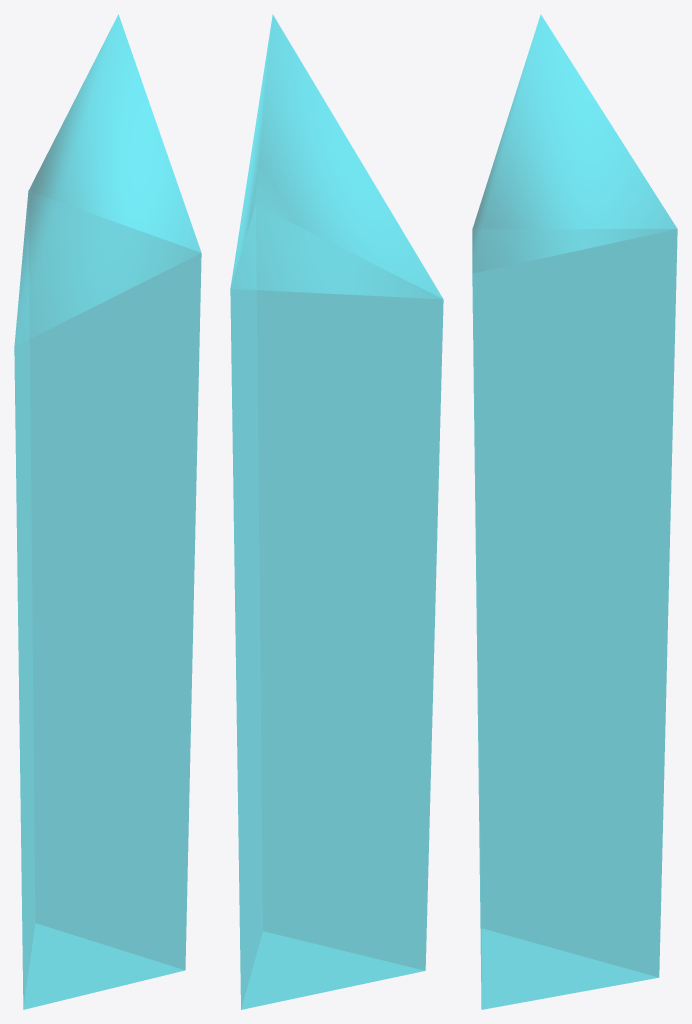
The model's file is cystal03.FBX.
The picture shows the model from 3 angles, left to right: view 1: azimuth 30°, elevation 25°; view 2: azimuth 150°, elevation 25°; view 3: azimuth 270°, elevation 25°; orthographic projection. The views are drawn at different scales.
Parts seen in each view (by area): view 1: crystal_03; view 2: crystal_03; view 3: crystal_03.
Part boxes in pixels (bbox=[...]): crystal_03: bbox=[14, 14, 201, 1009]; crystal_03: bbox=[230, 14, 443, 1009]; crystal_03: bbox=[472, 14, 677, 1009].
Size of the model in its own units: 80 by 73.49 by 386.
